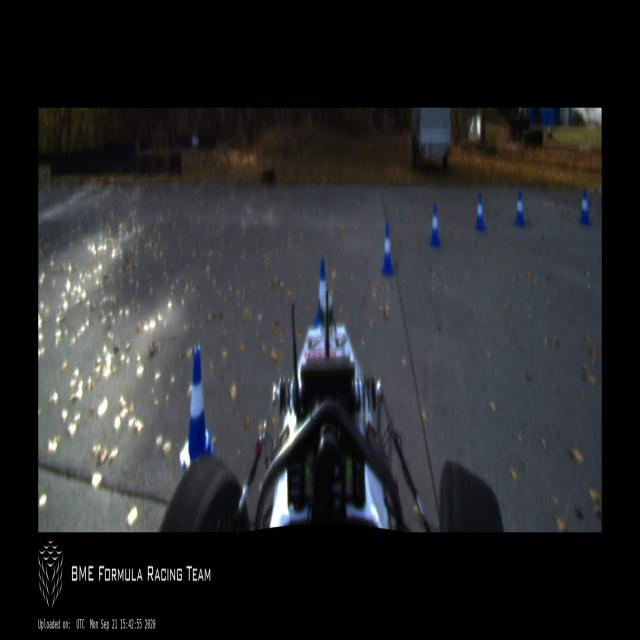blue_cone: (180, 343, 214, 472), (314, 258, 326, 328), (382, 222, 394, 275), (428, 202, 441, 247), (578, 189, 590, 226), (474, 194, 485, 231), (514, 189, 525, 226)
